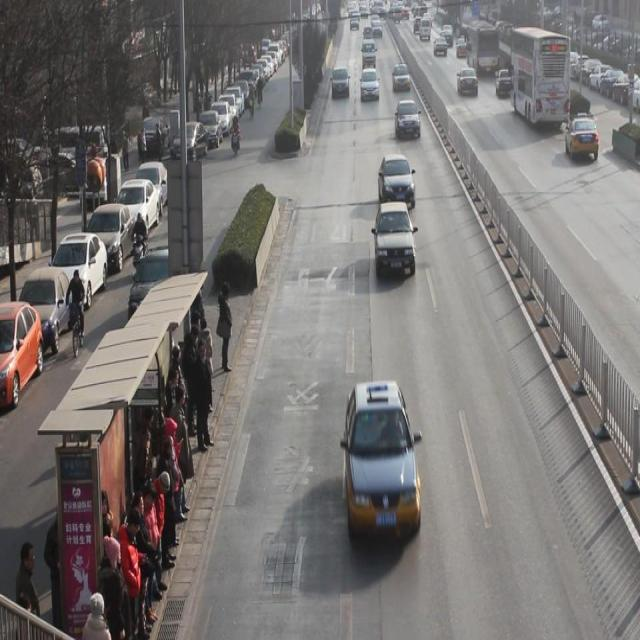car: (346, 380, 421, 540), (375, 201, 416, 279), (379, 154, 416, 212), (566, 117, 599, 162), (395, 100, 421, 142), (360, 67, 380, 102), (495, 69, 517, 98), (458, 68, 479, 97), (332, 66, 350, 98), (392, 63, 411, 92)
van: (510, 27, 568, 127), (464, 24, 499, 79)
